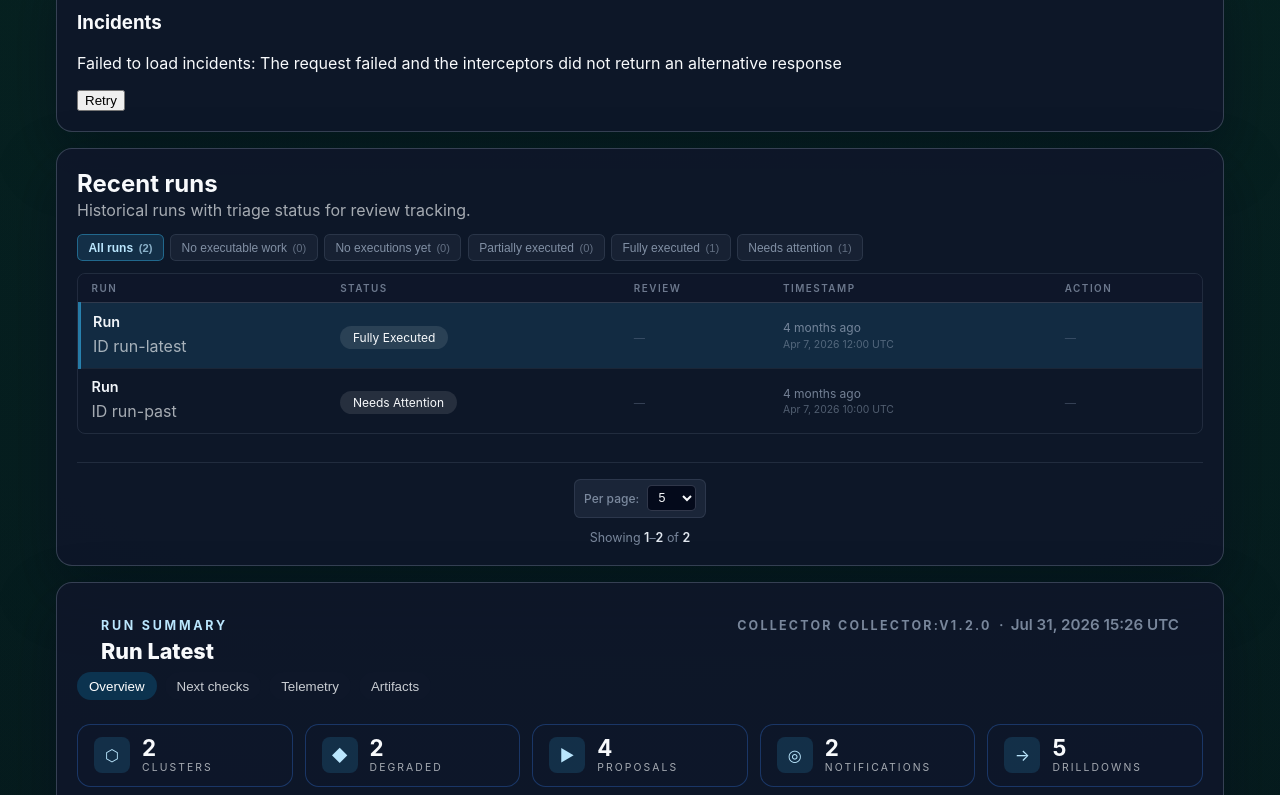
Test: Run Summary follows selected run › Scenario D: Switching between runs updates all panels correctly
(page scrolled)
Step 1. Click the button with aria-label "Run undefined, unreviewed, selected: false" → (641,400), box [80,368,1202,433]
(page scrolled)
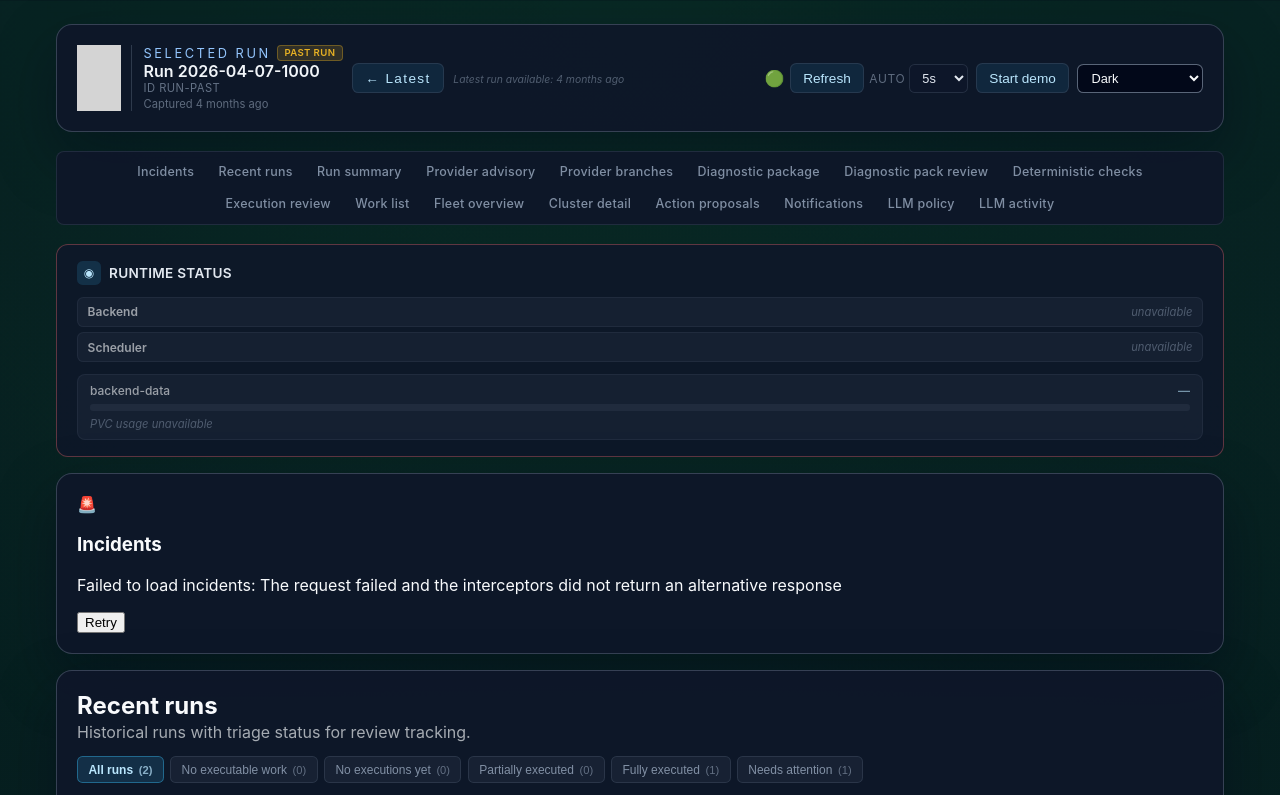
Check: the element with class "review-enrichment-summary" does not show "LATEST RUN"
Step 2. Click the button "← Latest" → (398,78), box [352,63,444,93]
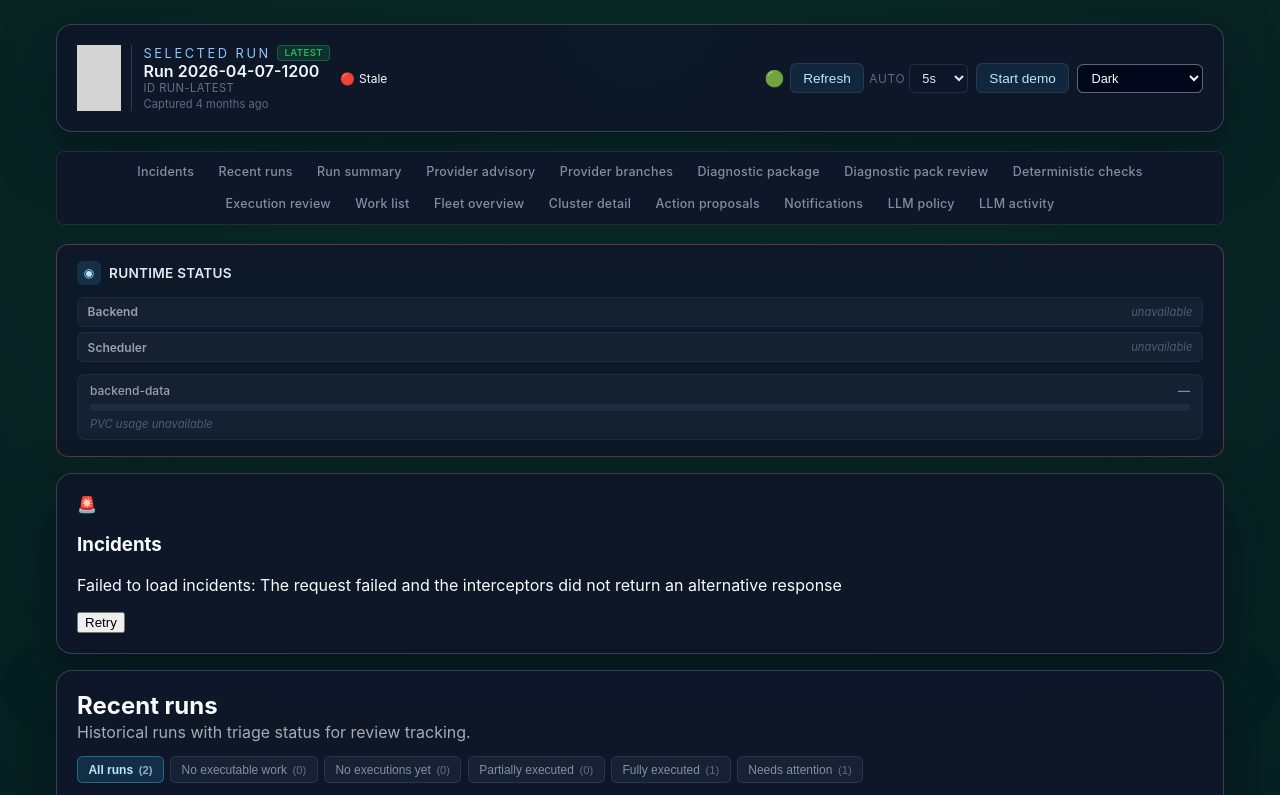
Check: the text with class "review-enrichment-summary" no longer shows "Past run"
